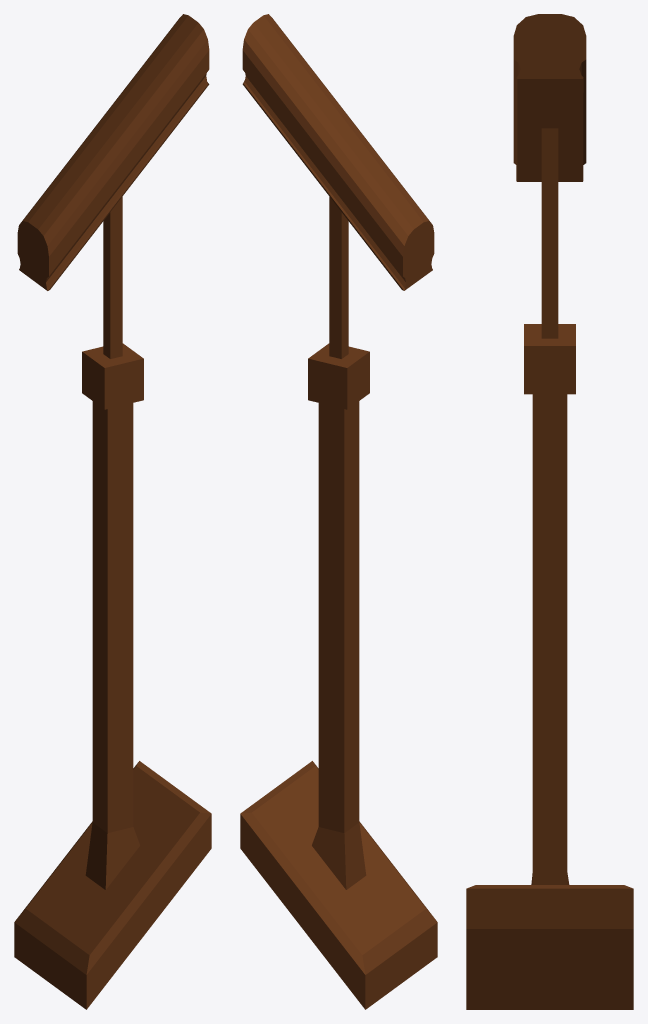
Rendered from Rambarde_escalier.fbx.
3 views of the same model, side by side, from view 1: azimuth 30°, elevation 25°; view 2: azimuth 150°, elevation 25°; view 3: azimuth 270°, elevation 25° (orthographic). The views are drawn at different scales.
Parts seen in each view (by area): view 1: Rambarde Petit.001; view 2: Rambarde Petit.001; view 3: Rambarde Petit.001.
Part boxes in pixels (x1,y1,x2,y2): Rambarde Petit.001: (14,14,211,1009); Rambarde Petit.001: (240,14,437,1009); Rambarde Petit.001: (466,14,633,1009).
Size of the model in its own units: 81.33 by 446 by 62.83.
